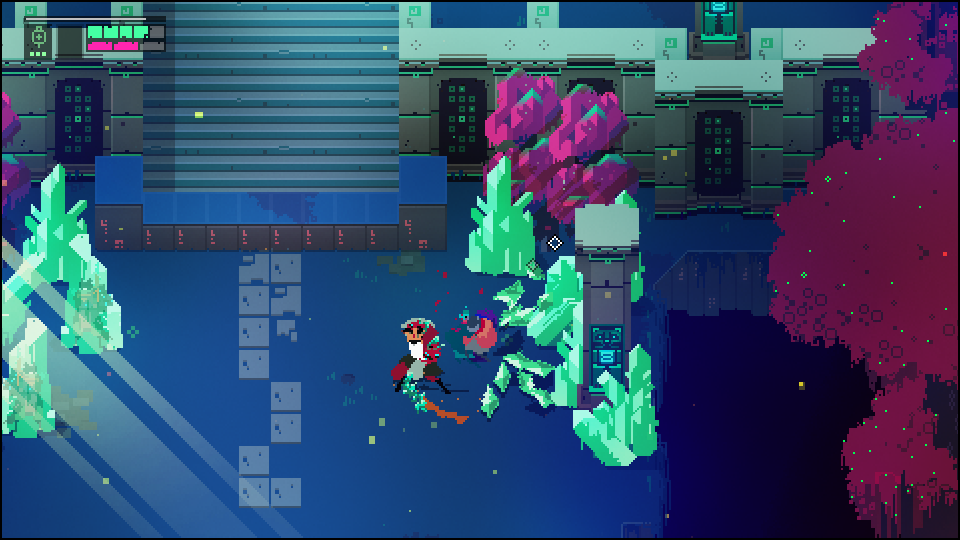hanged_man: (391, 315, 455, 419)
player: (465, 317, 497, 364)
